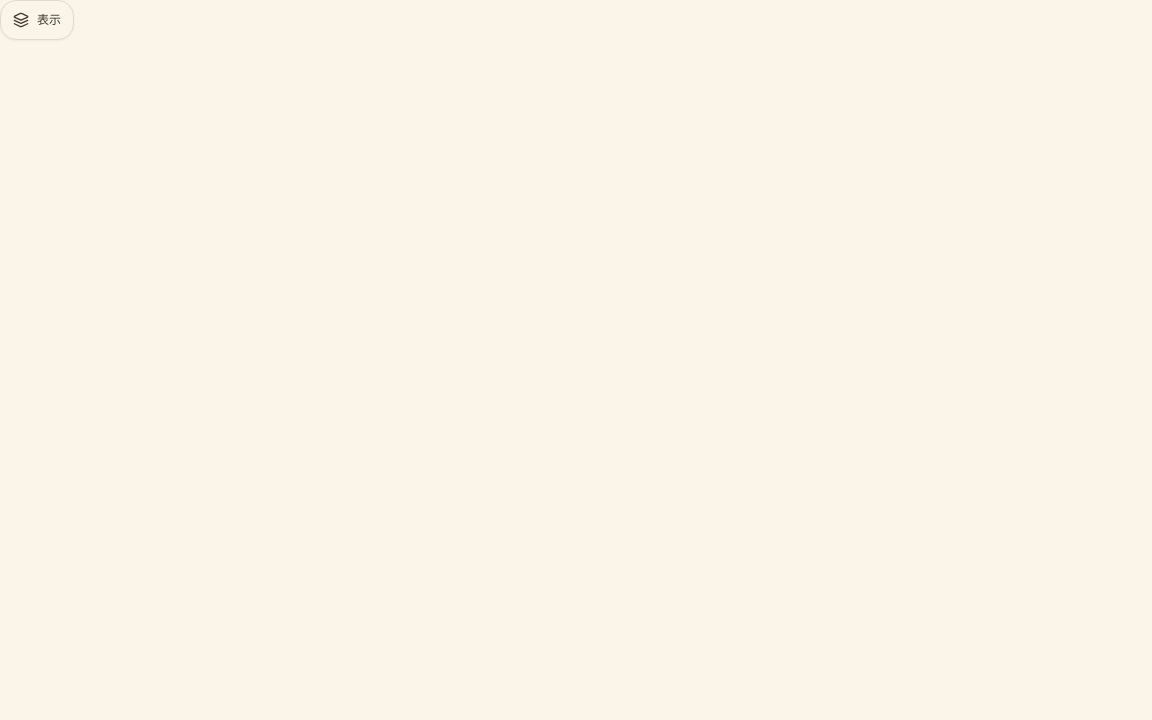
Test: MapStyleSelector › shows preview images for all eight map styles
Click the button "表示". click: [37, 20]
box: x1=0 y1=0 x2=74 y2=40
(page scrolled)
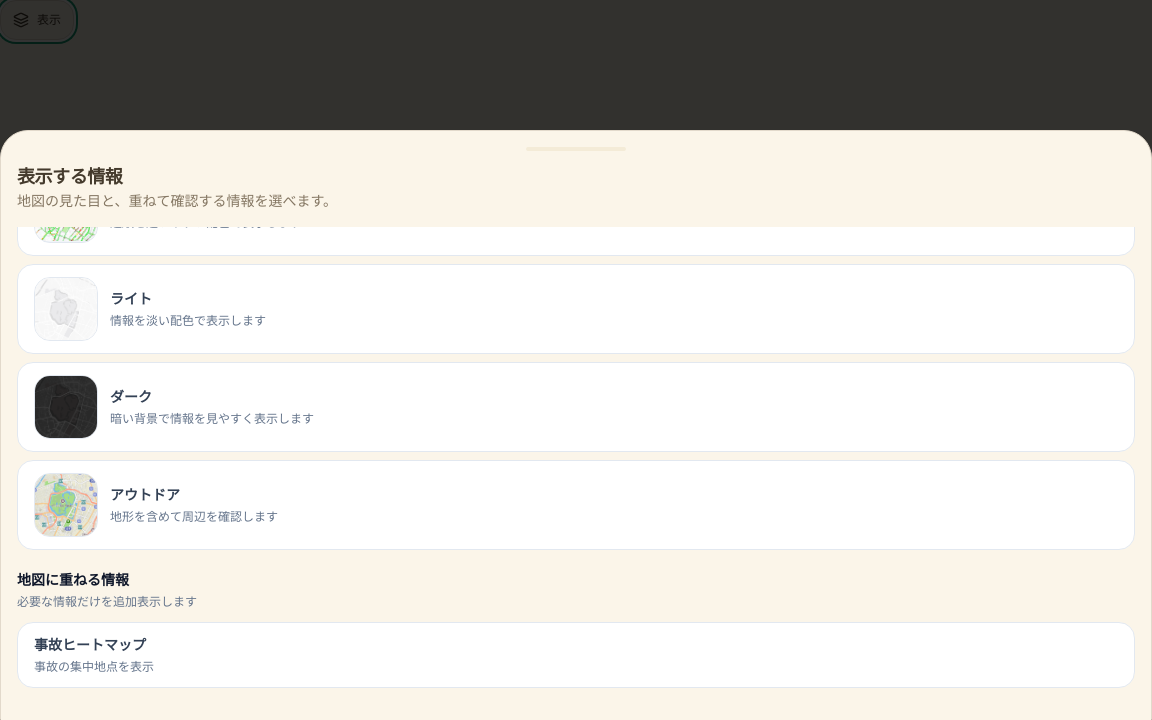
Expected: the picture named "ライトのプレビュー" is shown, x1=35 y1=277 x2=97 y2=340
Expected: the picture named "ダークのプレビュー" is shown, x1=35 y1=375 x2=97 y2=438
Expected: the picture named "アウトドアのプレビュー" is shown, x1=35 y1=473 x2=97 y2=536
